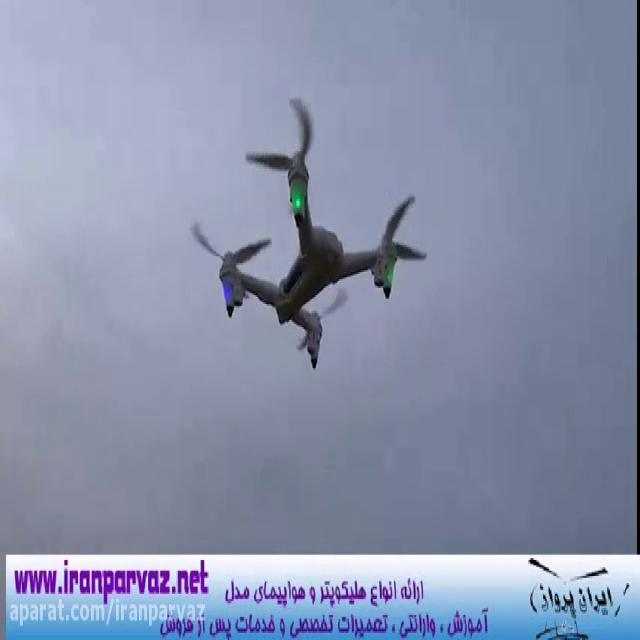drone: (187, 89, 433, 375)
